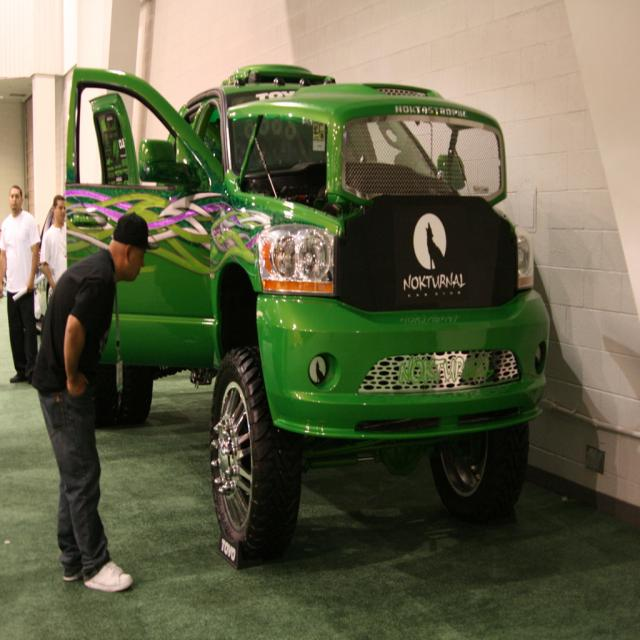other: (41, 60, 553, 563)
